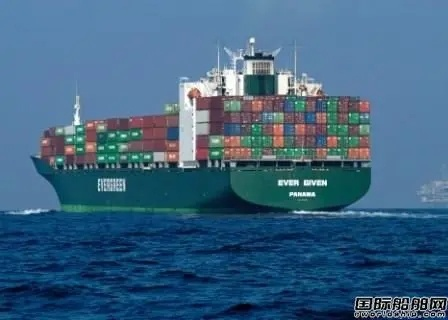Cargoship: (30, 36, 374, 216)
